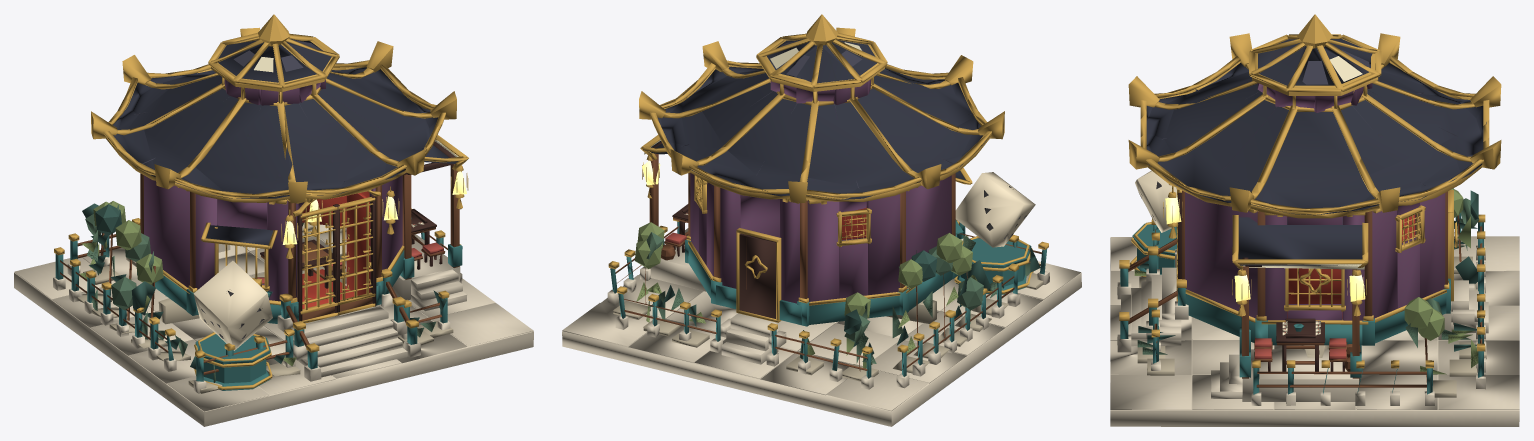
Rendered from casino-lod2-f94bcfb65788.glb.
3 views of the same model, side by side, from view 1: azimuth 30°, elevation 25°; view 2: azimuth 150°, elevation 25°; view 3: azimuth 270°, elevation 25° (orthographic). The views are drawn at different scales.
Visible parts, largest first — view 1: SM_QK18_C17_Batch_0, SM_QK18_C17_Batch_39, SM_QK18_C17_Batch_80, SM_QK18_C17_Batch_22, SM_QK18_C17_Batch_64, SM_QK18_C17_Batch_43, SM_QK18_C17_Batch_54, SM_QK18_C17_Batch_41, SM_QK18_C17_Batch_1, SM_QK18_C17_Batch_36, SM_QK18_C17_Batch_68, SM_QK18_C17_Batch_70 (+3 smaller); view 2: SM_QK18_C17_Batch_0, SM_QK18_C17_Batch_39, SM_QK18_C17_Batch_80, SM_QK18_C17_Batch_22, SM_QK18_C17_Batch_64, SM_QK18_C17_Batch_43, SM_QK18_C17_Batch_72, SM_QK18_C17_Batch_54, SM_QK18_C17_Batch_1, SM_QK18_C17_Batch_41, SM_QK18_C17_Batch_68, SM_QK18_C17_Batch_70 (+2 smaller); view 3: SM_QK18_C17_Batch_0, SM_QK18_C17_Batch_39, SM_QK18_C17_Batch_80, SM_QK18_C17_Batch_22, SM_QK18_C17_Batch_64, SM_QK18_C17_Batch_43, SM_QK18_C17_Batch_72, SM_QK18_C17_Batch_1, SM_QK18_C17_Batch_36, SM_QK18_C17_Batch_41, SM_QK18_C17_Batch_54, SM_QK18_C17_Batch_70 (+5 smaller).
Boxes of the visible parts, x1,y1,x2,y2 form: SM_QK18_C17_Batch_0: (14, 224, 533, 426); SM_QK18_C17_Batch_39: (113, 39, 457, 245); SM_QK18_C17_Batch_80: (54, 14, 468, 389); SM_QK18_C17_Batch_22: (144, 79, 402, 301); SM_QK18_C17_Batch_64: (55, 218, 462, 390); SM_QK18_C17_Batch_43: (60, 164, 459, 374); SM_QK18_C17_Batch_54: (193, 222, 424, 350); SM_QK18_C17_Batch_41: (260, 141, 455, 321); SM_QK18_C17_Batch_1: (77, 222, 453, 393); SM_QK18_C17_Batch_36: (302, 191, 421, 308); SM_QK18_C17_Batch_68: (85, 204, 435, 382); SM_QK18_C17_Batch_70: (82, 203, 446, 369); SM_QK18_C17_Batch_0: (562, 228, 1081, 426); SM_QK18_C17_Batch_39: (650, 39, 989, 199); SM_QK18_C17_Batch_80: (608, 14, 1048, 354); SM_QK18_C17_Batch_22: (690, 79, 951, 303); SM_QK18_C17_Batch_64: (610, 220, 1046, 378); SM_QK18_C17_Batch_43: (615, 153, 1042, 371); SM_QK18_C17_Batch_72: (634, 222, 977, 368); SM_QK18_C17_Batch_54: (684, 172, 1035, 247); SM_QK18_C17_Batch_1: (613, 273, 1043, 381); SM_QK18_C17_Batch_41: (652, 141, 775, 318); SM_QK18_C17_Batch_68: (646, 232, 1030, 363); SM_QK18_C17_Batch_70: (649, 237, 1040, 361); SM_QK18_C17_Batch_0: (1110, 232, 1519, 426); SM_QK18_C17_Batch_39: (1146, 39, 1486, 265); SM_QK18_C17_Batch_80: (1119, 14, 1501, 368); SM_QK18_C17_Batch_22: (1185, 83, 1445, 320); SM_QK18_C17_Batch_64: (1120, 213, 1483, 394); SM_QK18_C17_Batch_43: (1128, 190, 1482, 387); SM_QK18_C17_Batch_72: (1134, 188, 1478, 374); SM_QK18_C17_Batch_1: (1137, 256, 1486, 397); SM_QK18_C17_Batch_36: (1284, 215, 1415, 333); SM_QK18_C17_Batch_41: (1178, 193, 1344, 371); SM_QK18_C17_Batch_54: (1135, 170, 1320, 335); SM_QK18_C17_Batch_70: (1138, 190, 1478, 351).
Bounding box in the file's own units: 9.99 × 8.79 × 9.99.
Materials: 19 (10 with a texture image).
